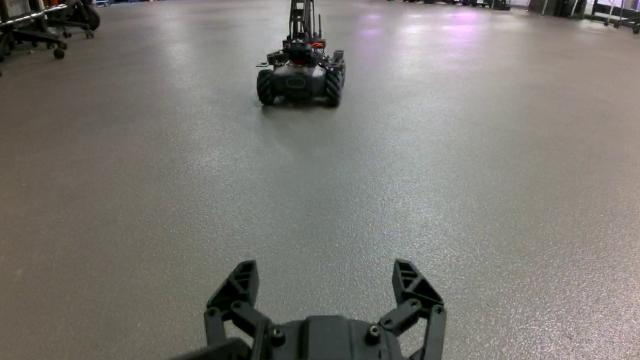robot: (254, 0, 347, 108)
